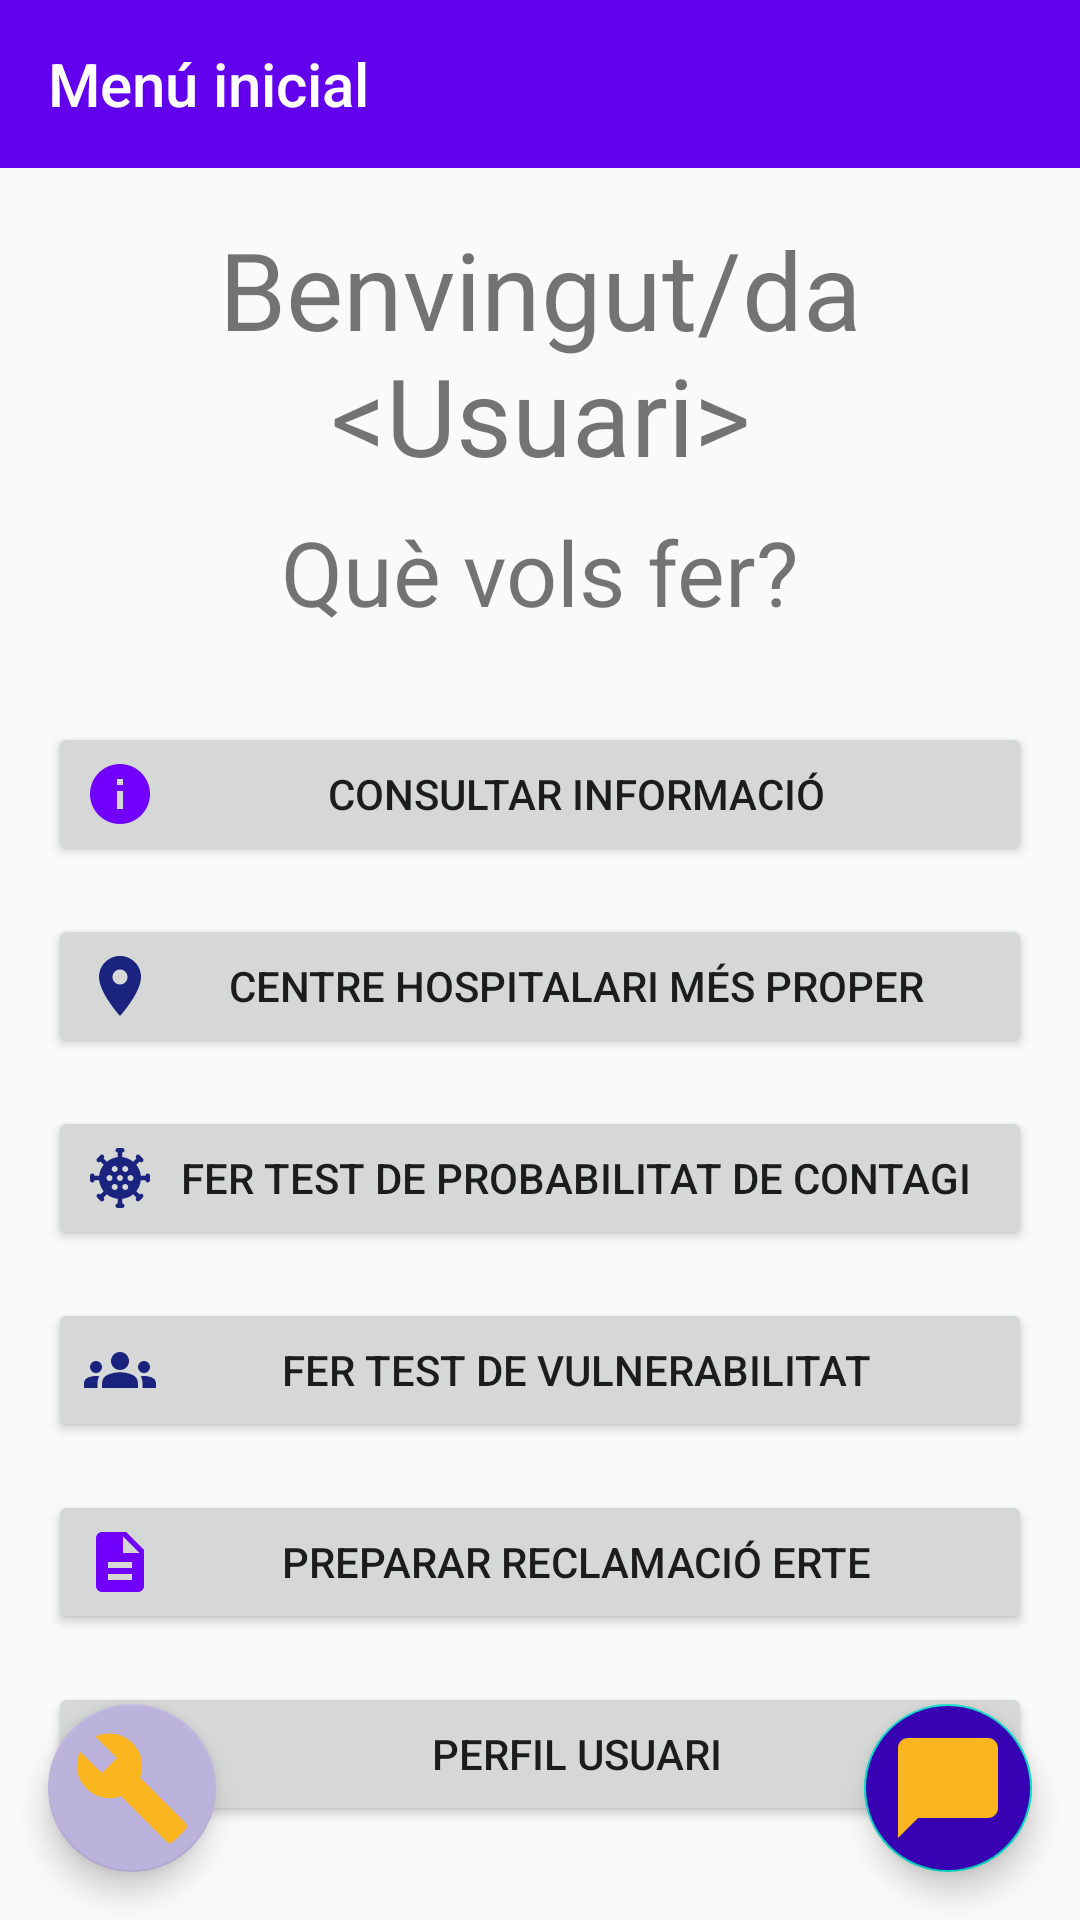

Icons on this 1080px×1920px Android screen, each with the point to tap as (x,y):
build: (132,1788)
chat bubble: (948,1788)
